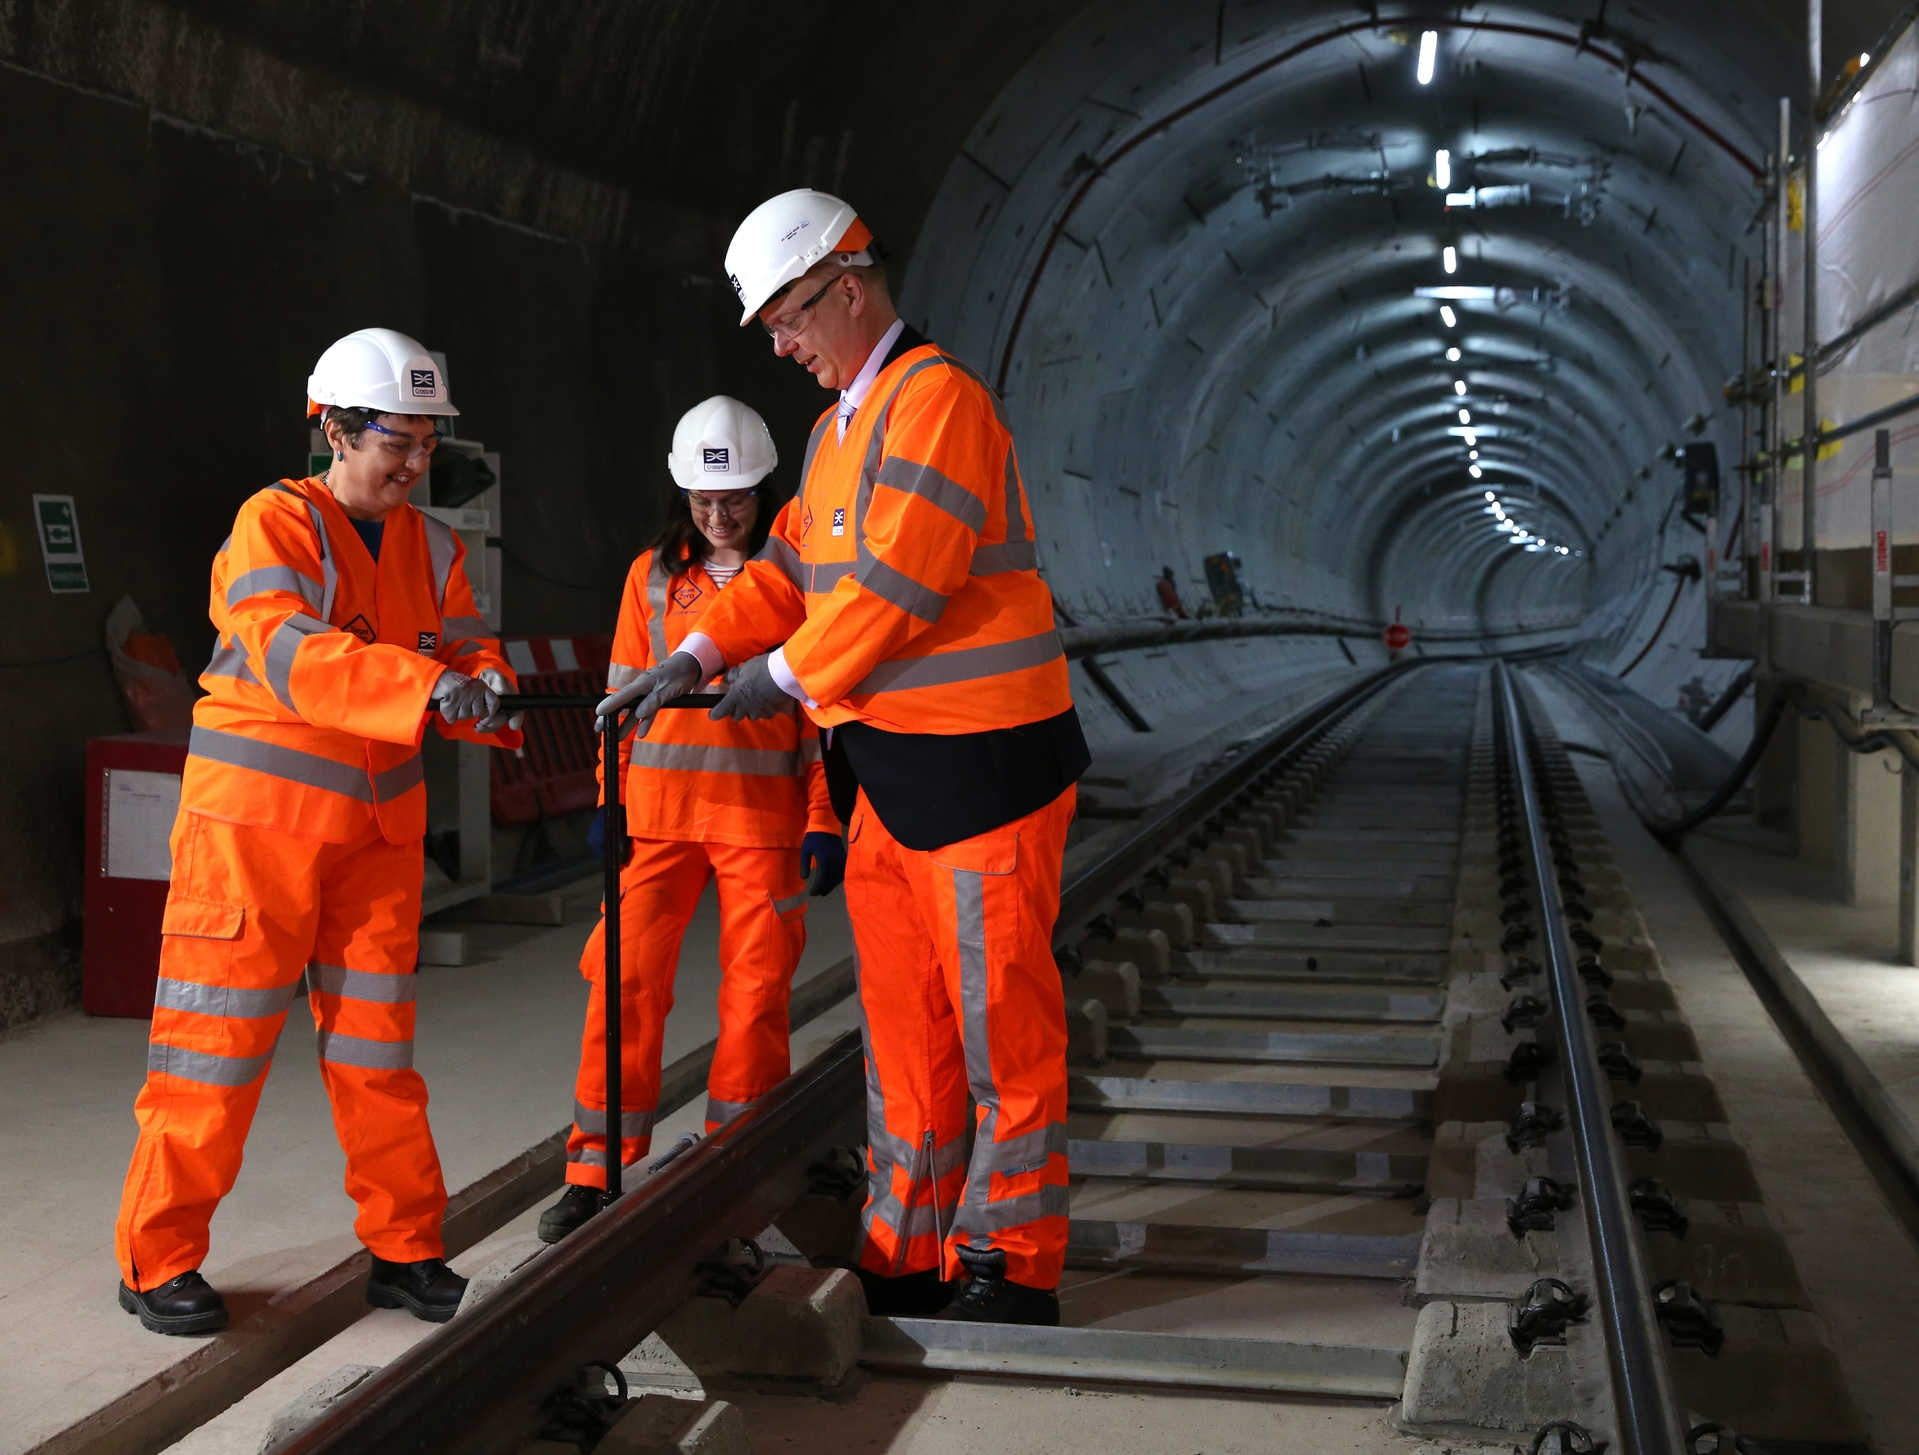white: (715, 180, 901, 384), (303, 321, 452, 514), (660, 393, 782, 550)
